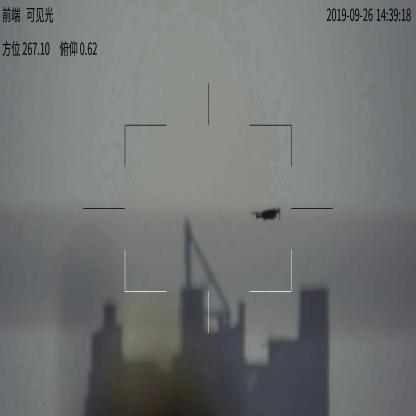uav: (250, 207, 283, 224)
